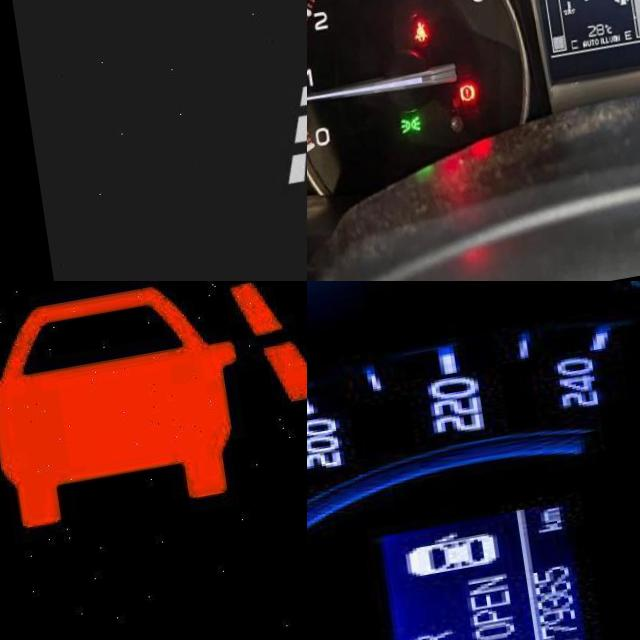Seat Belt: (400, 24, 418, 51)
